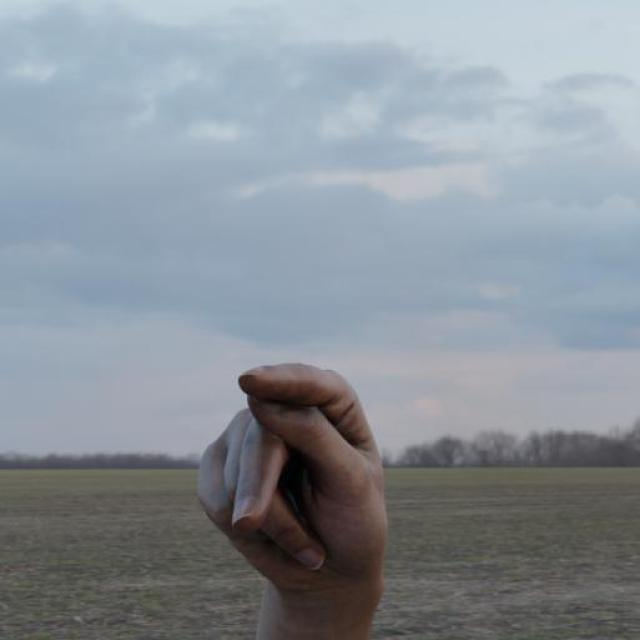P: (193, 365, 392, 596)
